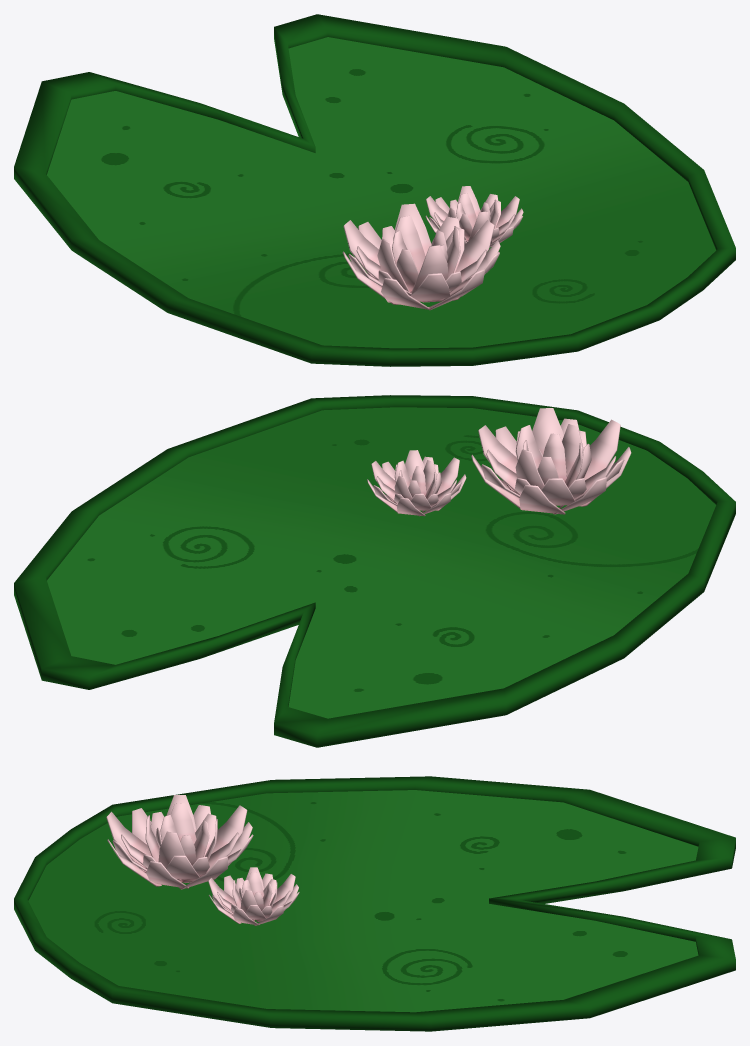
File: Lilypad1.fbx
The picture shows the model from 3 angles, top to bottom: view 1: azimuth 30°, elevation 25°; view 2: azimuth 150°, elevation 25°; view 3: azimuth 270°, elevation 25°; orthographic projection. The views are drawn at different scales.
Parts seen in each view (by area): view 1: Plane.002, Plane.006, Plane.026; view 2: Plane.002, Plane.006, Plane.026; view 3: Plane.002, Plane.006, Plane.026.
Boxes of the visible parts, x1=… form: Plane.002: x1=14, y1=14, x2=735, y2=366; Plane.006: x1=342, y1=203, x2=500, y2=310; Plane.026: x1=425, y1=186, x2=523, y2=247; Plane.002: x1=14, y1=395, x2=735, y2=747; Plane.006: x1=471, y1=408, x2=631, y2=514; Plane.026: x1=367, y1=450, x2=466, y2=516; Plane.002: x1=14, y1=776, x2=735, y2=1031; Plane.006: x1=106, y1=795, x2=253, y2=889; Plane.026: x1=208, y1=867, x2=299, y2=925.
Bounding box in the file's own units: 182 × 23.13 × 227.
2 materials, 2 textured.
